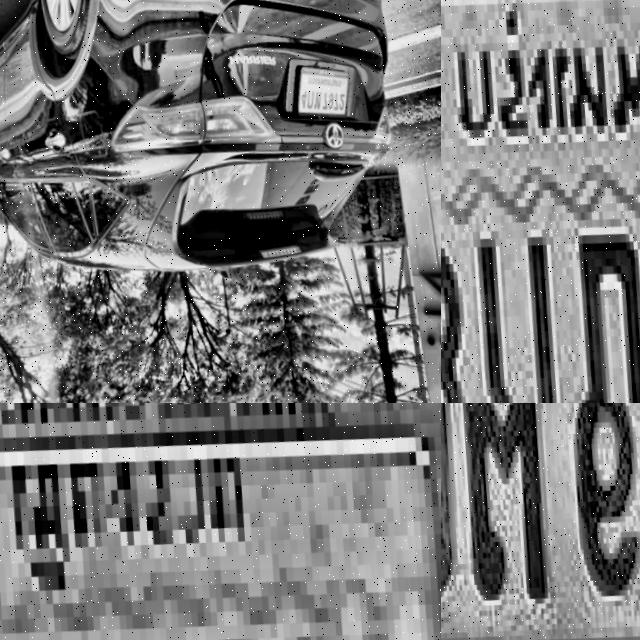license-plate: (0, 403, 441, 640), (441, 0, 640, 403), (441, 403, 640, 640), (289, 53, 355, 116)
